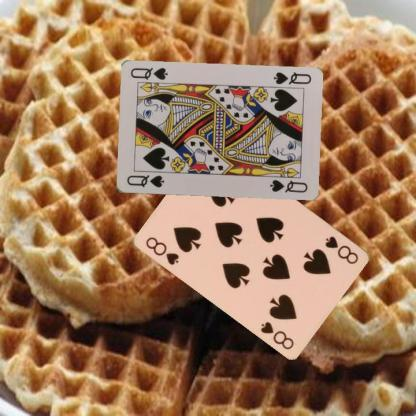8s: (322, 233, 360, 266), (143, 233, 181, 266)
Qs: (270, 69, 312, 86), (124, 172, 165, 189)
